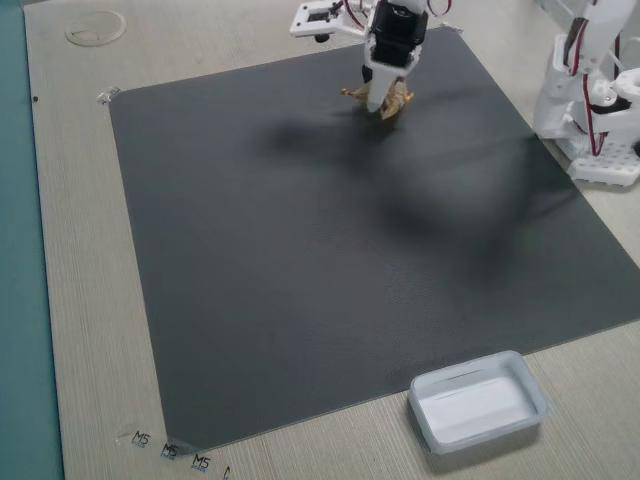gripper: (324, 4, 430, 119)
